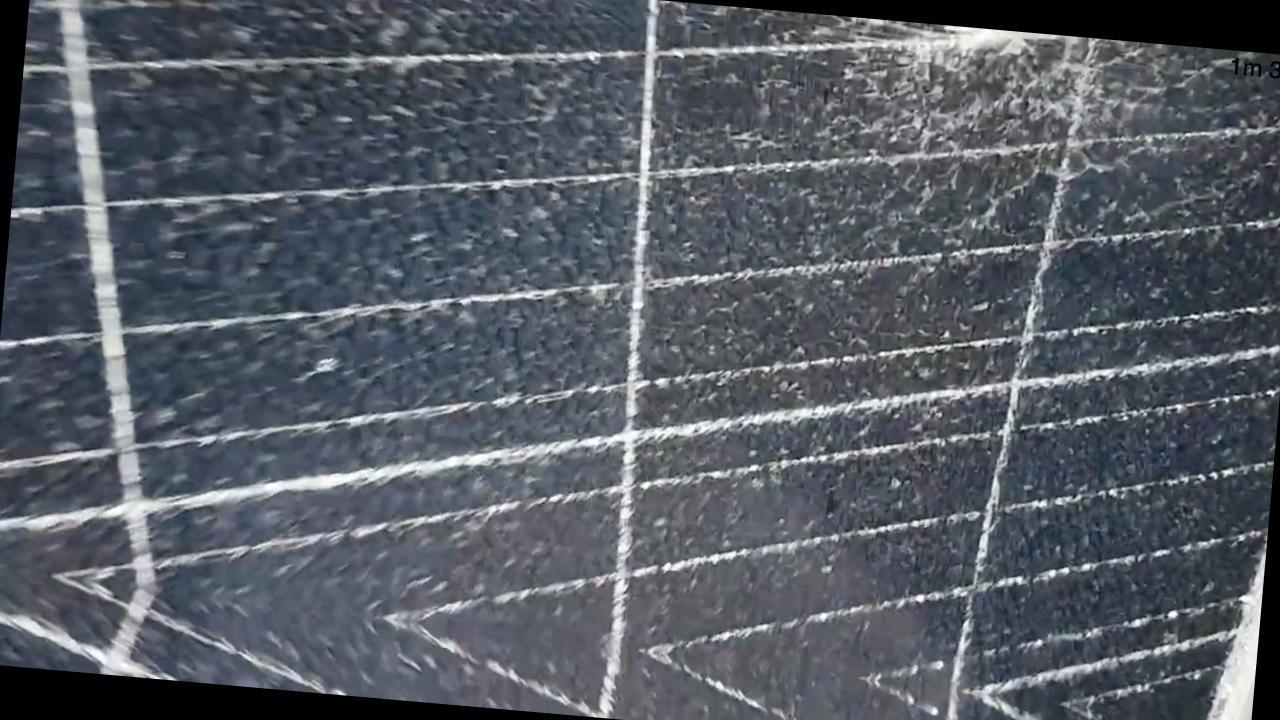Crack: (744, 9, 1158, 235)
